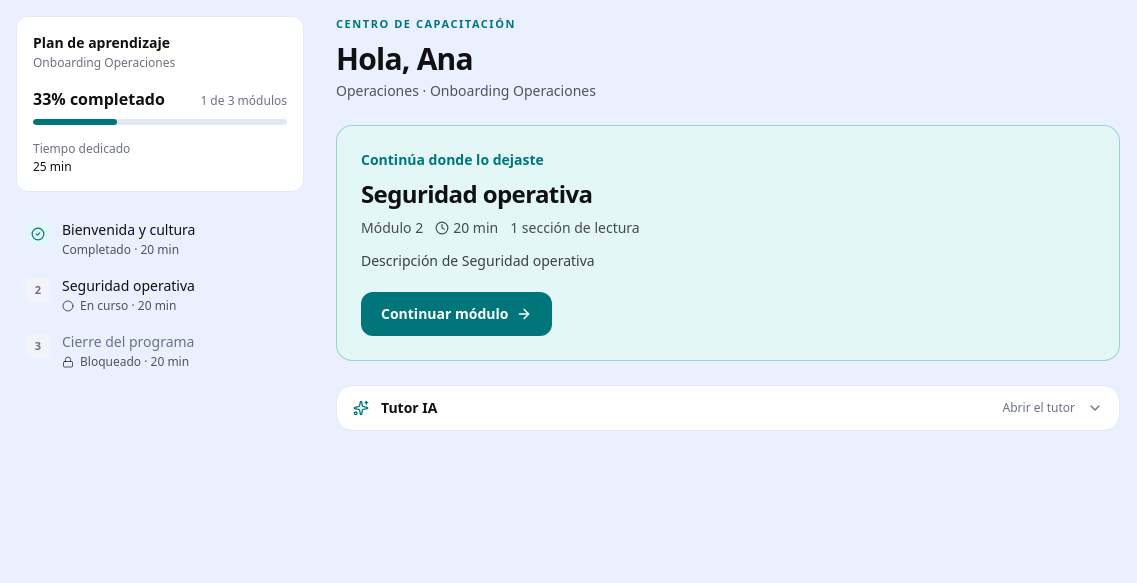
TrainingCenterPage › keeps the tutor docked and collapsed until it is opened
The image size is (1137, 583).
Click the button "Tutor IA Abrir el tutor" at (409, 408), box [337,386,1119,430]
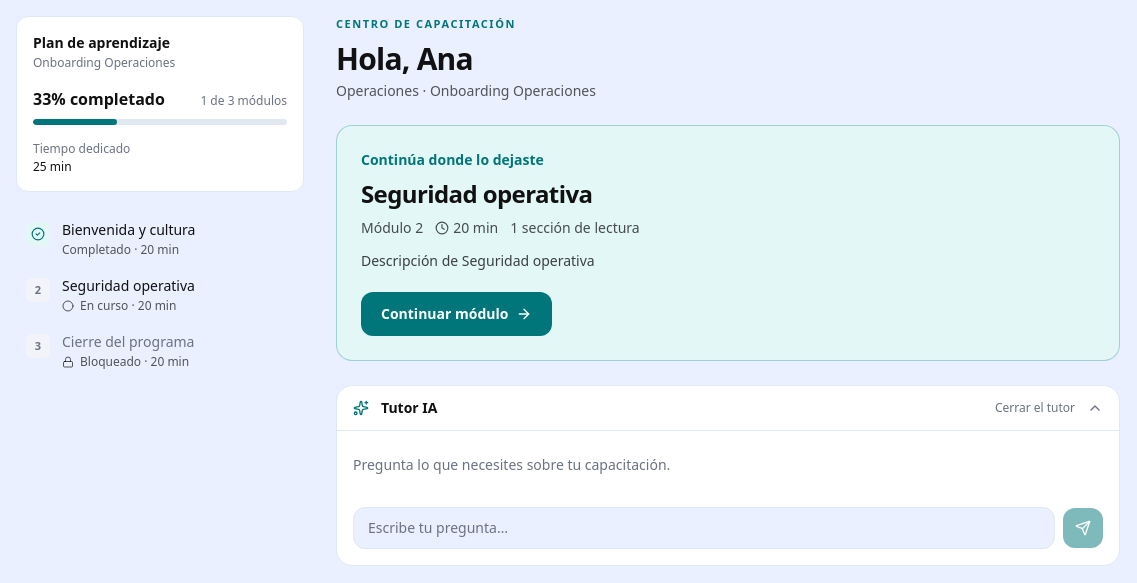
Result: the button "Tutor IA Cerrar el tutor" is expanded at [337,386,1119,430]
